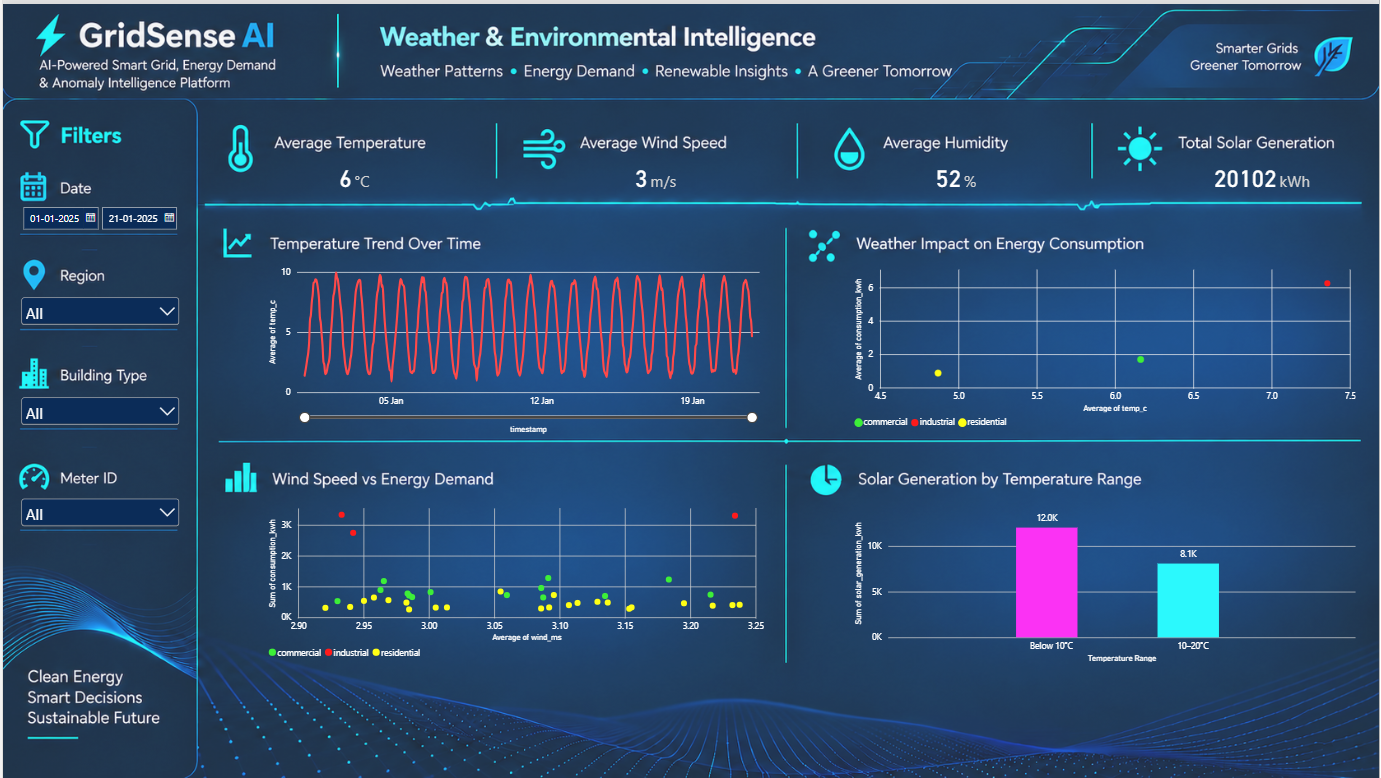

Layout of this report page (visuals, bound fields, positions):
{"tool":"powerbi","page":{"name":"Weather & Environmental Intelligence","canvas":[1920,1080],"ordinal":3},"visuals":[{"type":"slicer","fields":{"Values":["smartgrid_cleaned.date"]},"box":[21.6,279.2,234.1,43.2],"z":0},{"type":"slicer","fields":{"Values":["smartgrid_cleaned.region"]},"box":[21.6,405.3,230,46.8],"z":1000},{"type":"slicer","fields":{"Values":["smartgrid_cleaned.building_type"]},"box":[21.6,544,230,46.8],"z":2000},{"type":"slicer","fields":{"Values":["smartgrid_cleaned.meter_id"]},"box":[21.6,685,230,48.6],"z":3000},{"type":"advanceCardE03760C5AB684758B56AA29F9E6C257B","fields":{"mainMeasure":["smartgrid_cleaned.Average Temperature"]},"box":[372.8,208.9,234.1,70.2],"z":4000},{"type":"advanceCardE03760C5AB684758B56AA29F9E6C257B","fields":{"mainMeasure":["smartgrid_cleaned.Average Wind Speed"]},"box":[794.3,208.9,234.1,70.2],"z":5000},{"type":"advanceCardE03760C5AB684758B56AA29F9E6C257B","fields":{"mainMeasure":["smartgrid_cleaned.Average Humidity"]},"box":[1212.2,208.9,234.1,70.2],"z":6000},{"type":"advanceCardE03760C5AB684758B56AA29F9E6C257B","fields":{"mainMeasure":["smartgrid_cleaned.Total Solar Generation"]},"box":[1639,208.9,234.1,70.2],"z":7000},{"type":"lineChart","fields":{"Category":["smartgrid_cleaned.timestamp"],"Y":["Avg(smartgrid_cleaned.temp_c)"]},"box":[354.8,351.2,724.1,264.8],"z":8000},{"type":"scatterChart","fields":{"Series":["smartgrid_cleaned.building_type"],"X":["Avg(smartgrid_cleaned.temp_c)"],"Y":["Avg(smartgrid_cleaned.consumption_kwh)"]},"box":[1172.5,349.4,731.3,264.8],"z":9000},{"type":"scatterChart","fields":{"Category":["smartgrid_cleaned.meter_id"],"Series":["smartgrid_cleaned.building_type"],"X":["smartgrid_cleaned.wind_ms"],"Y":["Sum(smartgrid_cleaned.consumption_kwh)"]},"box":[354.8,682.6,724.1,252.2],"z":10000},{"type":"clusteredColumnChart","fields":{"Category":["smartgrid_cleaned.Temperature Range"],"Y":["Sum(smartgrid_cleaned.solar_generation_kwh)"]},"box":[1172.5,682.6,731.3,252.2],"z":11000}]}

Visuals, with their boxes in screenshot pixels (x1, y1, x2, y2), scaled from the page's 1920x1080 canvas onto the 1381x778 screenshot:
slicer - smartgrid_cleaned.date: 16,201,184,232
slicer - smartgrid_cleaned.region: 16,292,181,326
slicer - smartgrid_cleaned.building_type: 16,392,181,426
slicer - smartgrid_cleaned.meter_id: 16,493,181,528
advanceCardE03760C5AB684758B56AA29F9E6C257B - smartgrid_cleaned.Average Temperature: 268,150,437,201
advanceCardE03760C5AB684758B56AA29F9E6C257B - smartgrid_cleaned.Average Wind Speed: 571,150,740,201
advanceCardE03760C5AB684758B56AA29F9E6C257B - smartgrid_cleaned.Average Humidity: 872,150,1040,201
advanceCardE03760C5AB684758B56AA29F9E6C257B - smartgrid_cleaned.Total Solar Generation: 1179,150,1347,201
lineChart - smartgrid_cleaned.timestamp x Avg(smartgrid_cleaned.temp_c): 255,253,776,444
scatterChart - smartgrid_cleaned.building_type x Avg(smartgrid_cleaned.temp_c): 843,252,1369,442
scatterChart - smartgrid_cleaned.meter_id x smartgrid_cleaned.building_type: 255,492,776,673
clusteredColumnChart - smartgrid_cleaned.Temperature Range x Sum(smartgrid_cleaned.solar_generation_kwh): 843,492,1369,673
